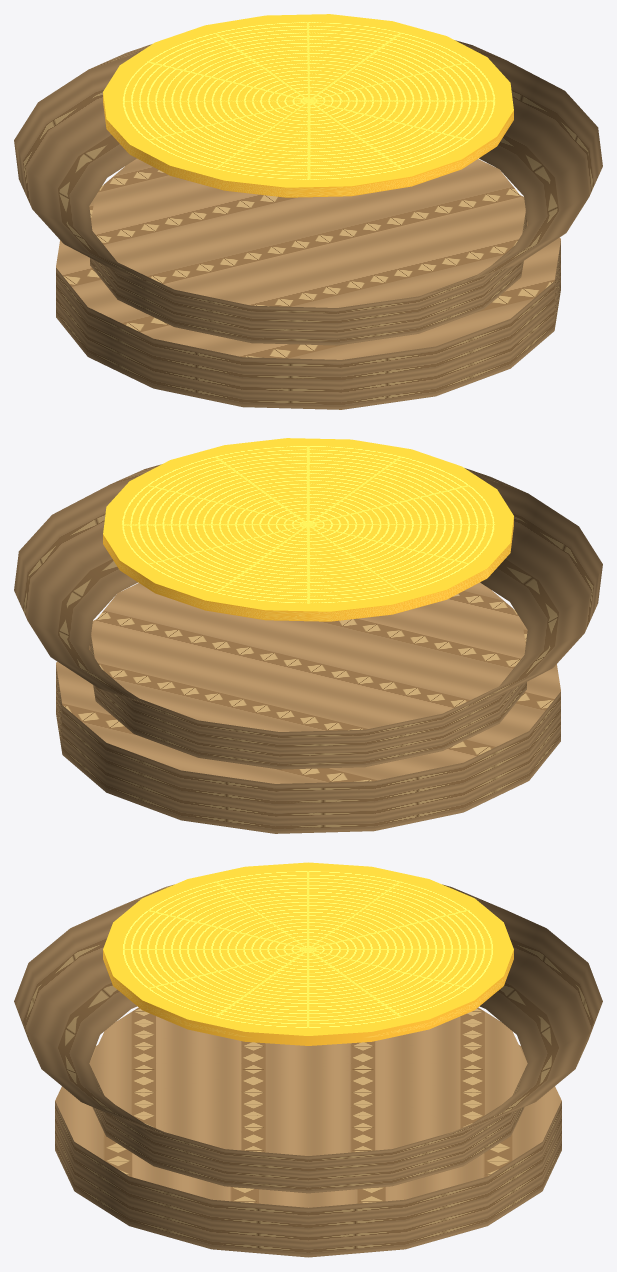
Rendered from lotus_pedestal.glb.
3 views of the same model, one above another, from view 1: azimuth 30°, elevation 25°; view 2: azimuth 150°, elevation 25°; view 3: azimuth 270°, elevation 25° (orthographic).
Parts seen in each view (by area): view 1: Node_LotusPedestal; view 2: Node_LotusPedestal; view 3: Node_LotusPedestal.
Boxes of the visible parts, bbox=[...] form: Node_LotusPedestal: bbox=[14, 14, 602, 409]; Node_LotusPedestal: bbox=[14, 438, 602, 833]; Node_LotusPedestal: bbox=[14, 862, 602, 1257].
Size of the model in its own units: 4.3 by 1.62 by 4.3.
Materials: 2 (2 with a texture image).
